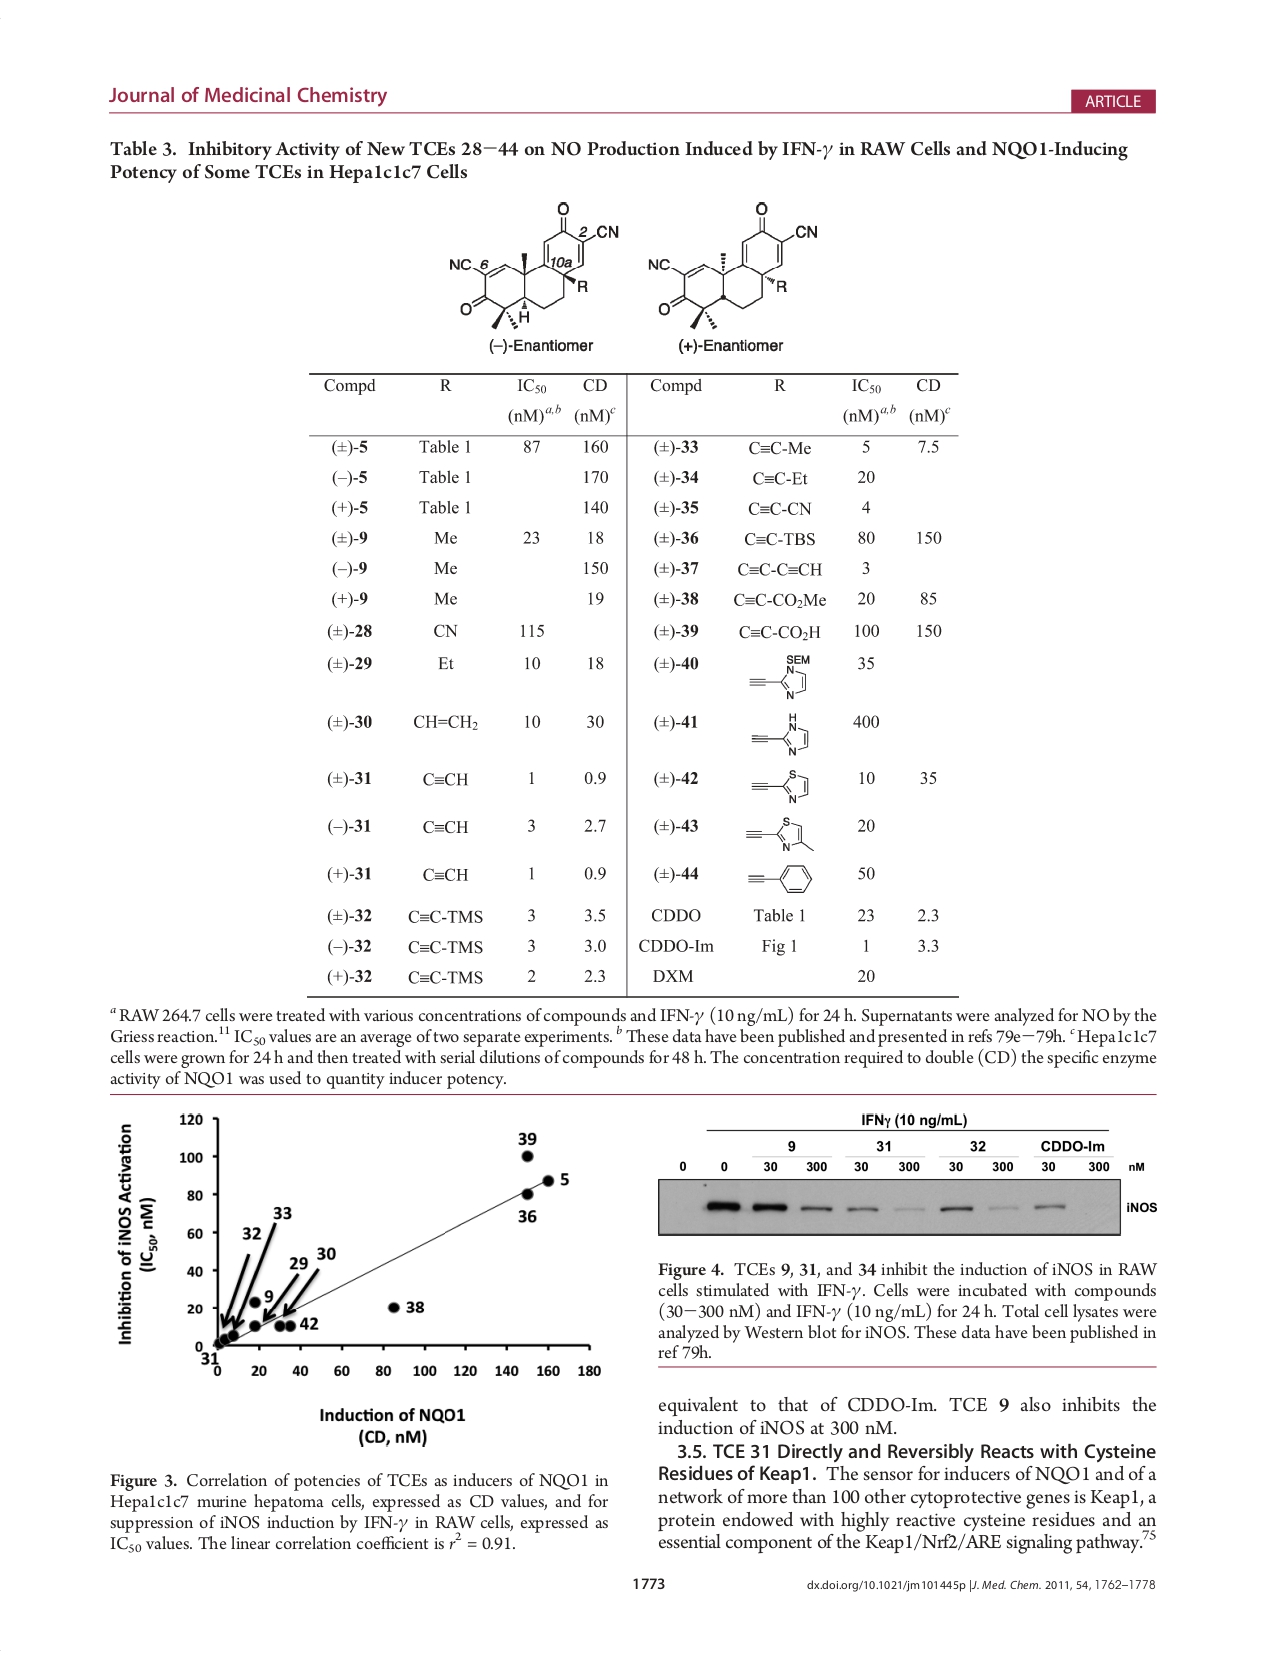exist_molecular: (645, 197, 819, 332), (447, 201, 620, 330), (743, 650, 817, 700), (747, 709, 815, 757), (743, 814, 817, 856), (743, 860, 819, 896), (743, 769, 811, 805)
